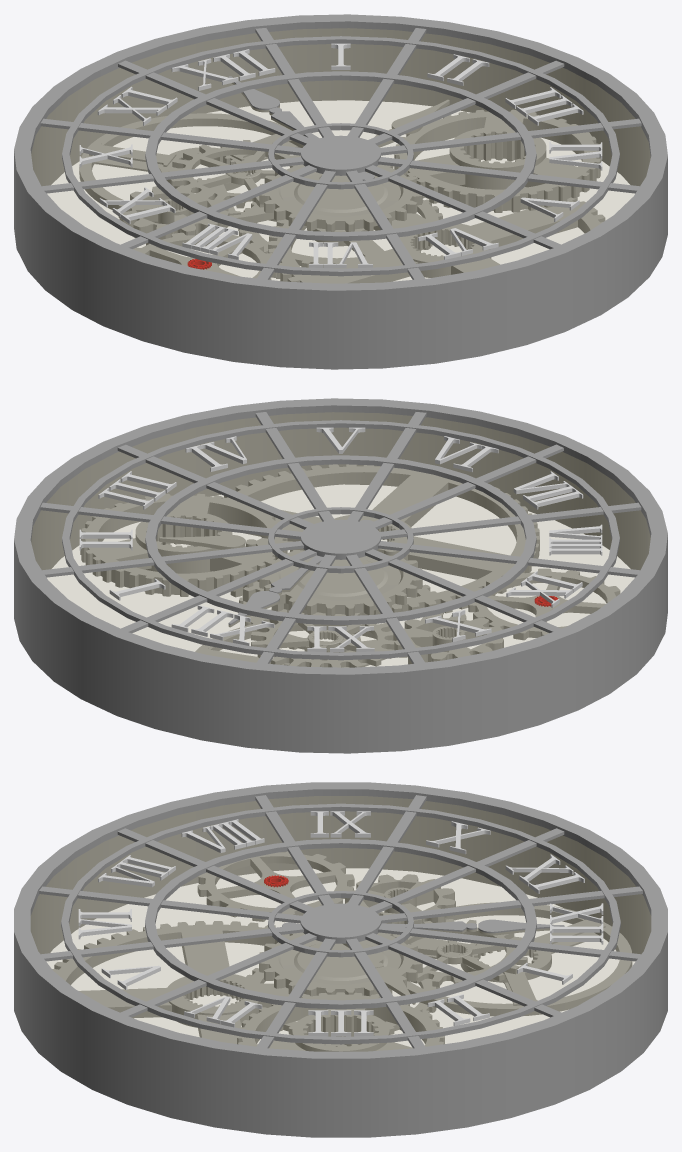
File: ert.fbx
3 renders of one model, top to bottom at view 1: azimuth 30°, elevation 25°; view 2: azimuth 150°, elevation 25°; view 3: azimuth 270°, elevation 25°, orthographic.
Parts seen in each view (by area): view 1: a, c7, c5, c9, c6, c10, c1, c11, c8, pasted__pCylinder159, pasted__pCylinder161; view 2: a, c5, c7, c9, c11, c10, c1, pasted__pCylinder161, pasted__pCylinder159, c6, c8; view 3: a, c5, c6, c7, c9, c11, c10, c1, pasted__pCylinder159, pasted__pCylinder161, c8.
Part boxes in pixels (x1,y1,x2,y2): a: [14, 14, 667, 369]; c7: [394, 109, 601, 212]; c5: [268, 187, 605, 283]; c9: [259, 164, 422, 231]; c6: [79, 113, 303, 226]; c10: [168, 140, 300, 208]; c1: [118, 185, 229, 239]; c11: [133, 232, 278, 279]; c8: [238, 199, 442, 267]; pasted__pCylinder159: [228, 76, 374, 180]; pasted__pCylinder161: [304, 99, 449, 186]; a: [14, 398, 667, 753]; c5: [190, 464, 539, 618]; c7: [80, 493, 287, 596]; c9: [259, 550, 422, 615]; c11: [468, 568, 620, 640]; c10: [251, 610, 394, 667]; c1: [393, 614, 503, 664]; pasted__pCylinder161: [159, 535, 399, 555]; pasted__pCylinder159: [228, 520, 373, 627]; c6: [195, 621, 393, 667]; c8: [239, 584, 443, 652]; a: [14, 782, 667, 1137]; c5: [52, 921, 385, 1046]; c6: [407, 902, 632, 1016]; c7: [237, 992, 444, 1051]; c9: [259, 932, 422, 996]; c11: [197, 851, 354, 922]; c10: [393, 919, 529, 986]; c1: [345, 874, 455, 924]; pasted__pCylinder159: [282, 919, 564, 935]; pasted__pCylinder161: [342, 942, 415, 1004]; c8: [246, 967, 439, 1034].
Size of the model in its own units: 1514 by 210 by 1514.
